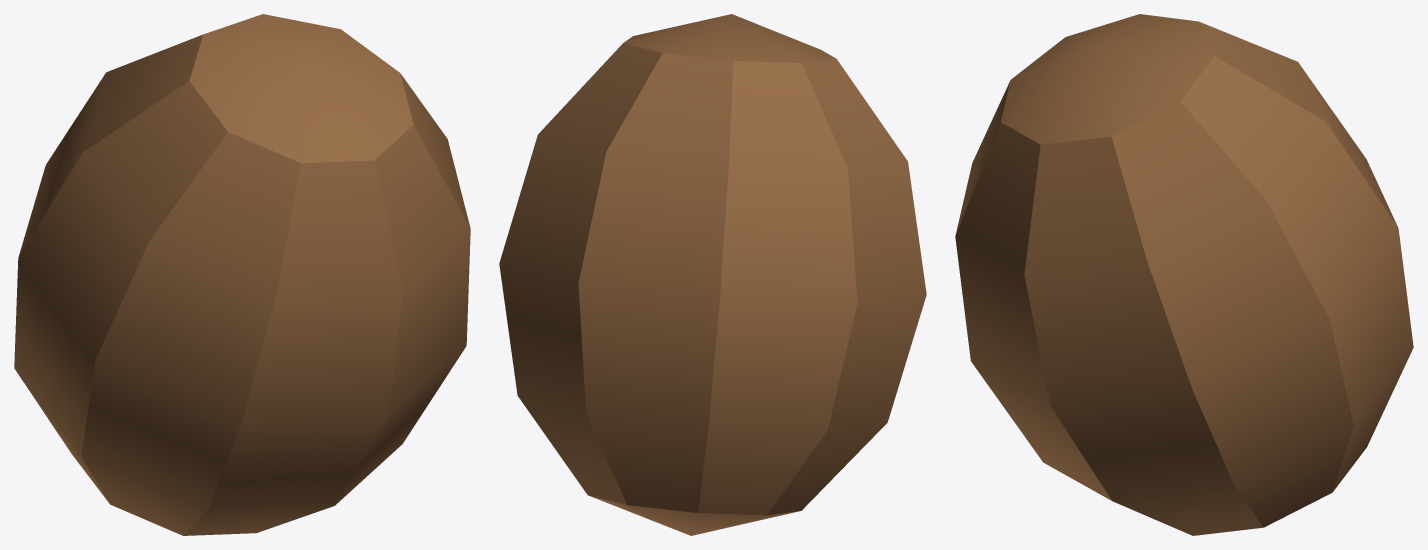
The model's file is coconut_005.glb.
3 renders of one model, left to right at view 1: azimuth 30°, elevation 25°; view 2: azimuth 150°, elevation 25°; view 3: azimuth 270°, elevation 25°, orthographic. The views are drawn at different scales.
Parts seen in each view (by area): view 1: coconut.005; view 2: coconut.005; view 3: coconut.005.
Boxes of the visible parts, x1=… form: coconut.005: x1=14, y1=14, x2=470, y2=535; coconut.005: x1=499, y1=14, x2=926, y2=535; coconut.005: x1=955, y1=14, x2=1413, y2=535.
Bounding box in the file's own units: 0.2228 × 0.2649 × 0.2303.
Materials: 1 (1 with a texture image).
